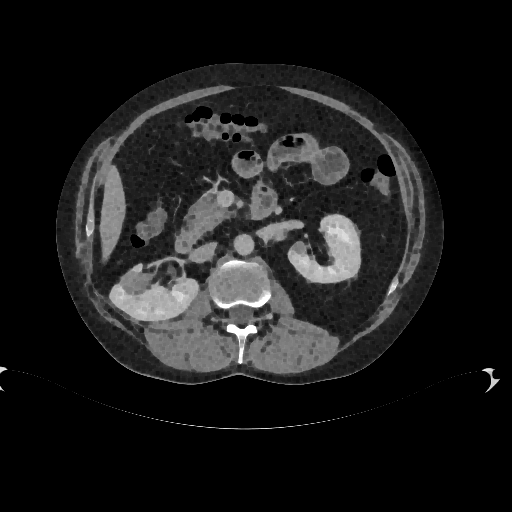Lesion: (118, 266, 156, 294)
